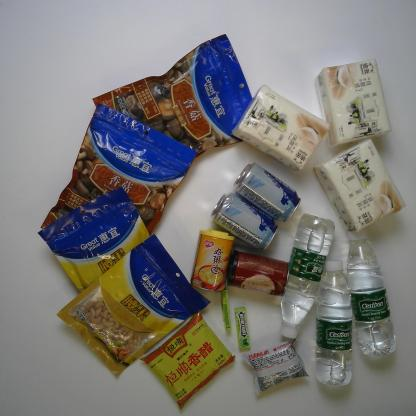Alcohol: (232, 158, 305, 221), (209, 191, 277, 252)
Canned Food: (223, 253, 294, 304), (193, 227, 234, 297)
Dessert: (240, 340, 318, 395)
Dried Food: (40, 109, 201, 285), (95, 27, 264, 186)
Dried Fruit: (52, 236, 211, 381), (36, 190, 174, 334)
Drink: (340, 227, 403, 366), (278, 214, 336, 344), (318, 260, 356, 388)
Gum: (231, 306, 263, 350), (216, 286, 238, 336)
Seasoner: (136, 310, 233, 408)
Tissue: (315, 136, 403, 243), (232, 79, 328, 172), (312, 58, 394, 146)
